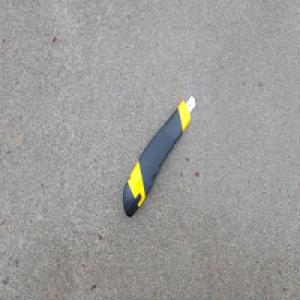Cutter: (120, 94, 194, 219)
